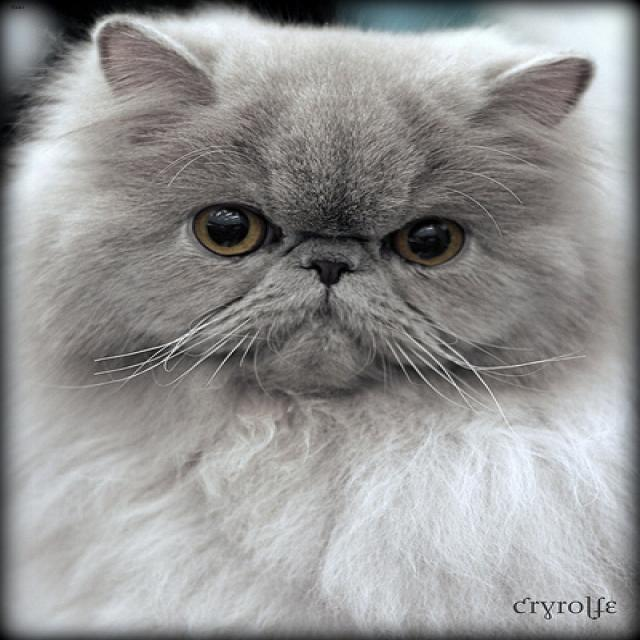Persian: (25, 8, 612, 411)
